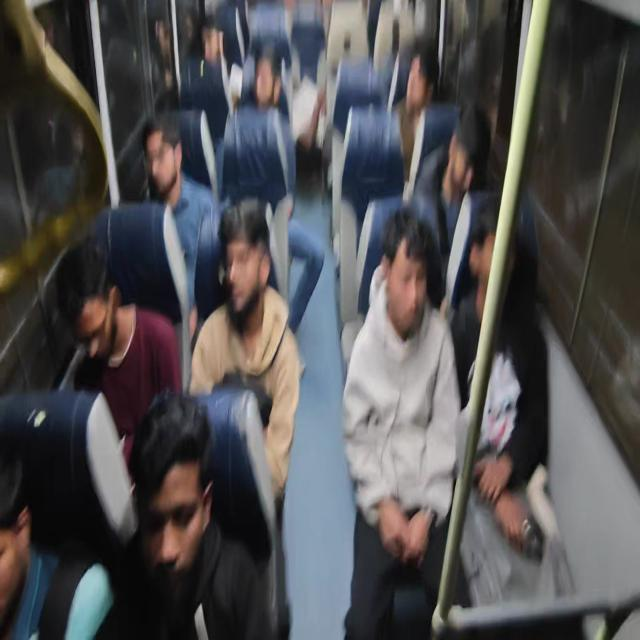person: (7, 1, 561, 637), (341, 207, 462, 638), (188, 200, 300, 636), (91, 388, 275, 639), (450, 196, 550, 606), (55, 237, 183, 471), (0, 440, 115, 639), (220, 42, 296, 299), (137, 112, 221, 332), (411, 100, 492, 308), (393, 34, 459, 196), (180, 15, 235, 194)
